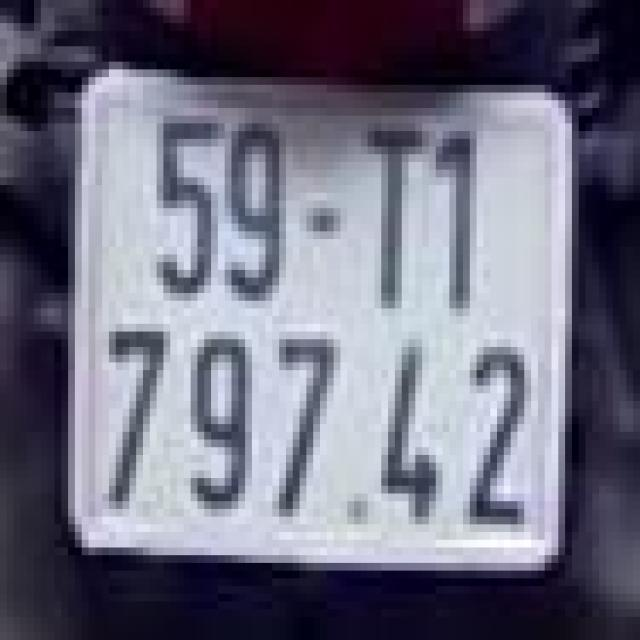1: (429, 116, 504, 316)
2: (453, 328, 534, 551)
4: (368, 328, 442, 536)
5: (150, 100, 224, 301)
7: (85, 316, 174, 517), (259, 328, 340, 512)
9: (225, 88, 292, 304), (184, 328, 259, 512)
T: (340, 120, 429, 312)
